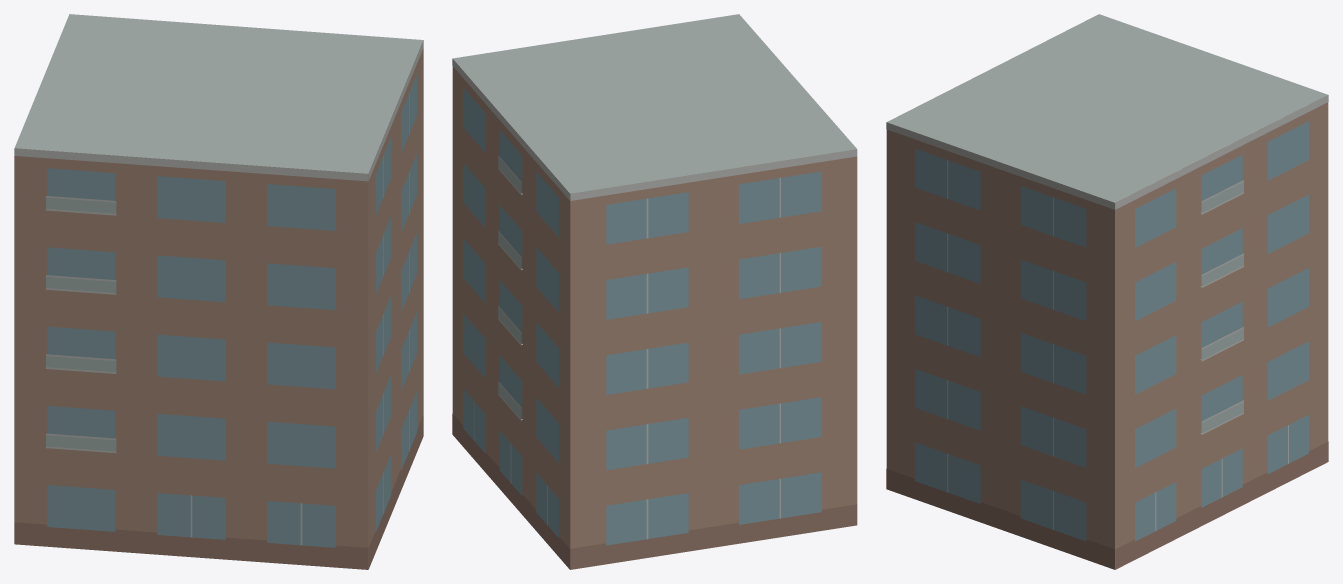
Rendered from survey-upis-32677866.glb.
The picture shows the model from 3 angles, left to right: view 1: azimuth 30°, elevation 25°; view 2: azimuth 150°, elevation 25°; view 3: azimuth 270°, elevation 25°; orthographic projection. The views are drawn at different scales.
Parts seen in each view (by area): view 1: survey-upis-32677866.tmp; view 2: survey-upis-32677866.tmp; view 3: survey-upis-32677866.tmp.
Part boxes in pixels (x1=…): survey-upis-32677866.tmp: x1=14, y1=14, x2=423, y2=569; survey-upis-32677866.tmp: x1=452, y1=14, x2=857, y2=569; survey-upis-32677866.tmp: x1=886, y1=14, x2=1328, y2=569.
Bounding box in the file's own units: 14.03 × 12.7 × 13.87.
